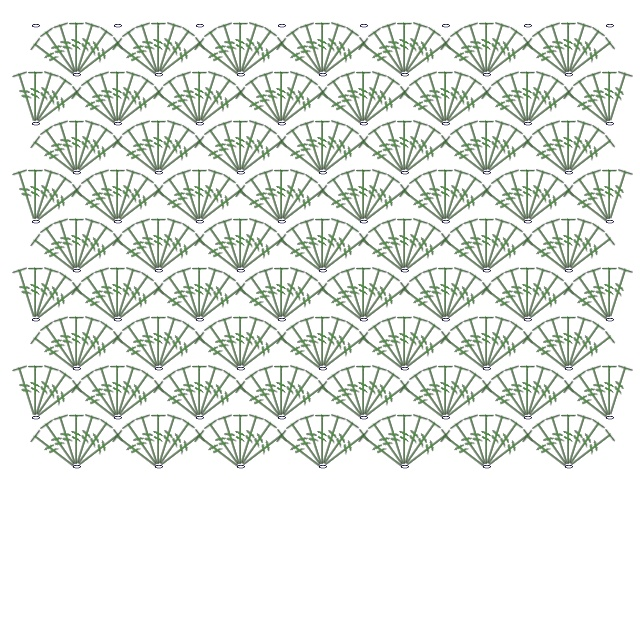chain: (31, 22, 41, 30), (113, 22, 123, 30), (195, 22, 205, 30), (277, 22, 287, 30), (359, 22, 369, 30), (441, 22, 451, 30), (523, 22, 533, 30), (605, 22, 615, 30), (31, 120, 41, 128), (113, 120, 123, 128), (195, 120, 205, 128), (277, 120, 287, 128), (359, 120, 369, 128), (441, 120, 451, 128), (523, 120, 533, 128), (605, 120, 615, 128), (31, 218, 41, 226), (113, 218, 123, 226), (195, 218, 205, 226), (277, 218, 287, 226), (359, 218, 369, 226), (441, 218, 451, 226), (523, 218, 533, 226), (605, 218, 615, 226), (31, 316, 41, 324), (113, 316, 123, 324), (195, 316, 205, 324), (277, 316, 287, 324), (359, 316, 369, 324), (441, 316, 451, 324), (523, 316, 533, 324), (605, 316, 615, 324), (31, 414, 41, 422), (113, 414, 123, 422), (195, 414, 205, 422), (277, 414, 287, 422), (359, 414, 369, 422), (441, 414, 451, 422), (523, 414, 533, 422), (605, 414, 615, 422), (72, 72, 82, 78), (154, 72, 164, 78), (236, 72, 246, 78), (318, 72, 328, 78), (400, 72, 410, 78), (482, 72, 492, 78), (564, 72, 574, 78), (72, 170, 82, 176), (154, 170, 164, 176), (236, 170, 246, 176), (318, 170, 328, 176), (400, 170, 410, 176), (482, 170, 492, 176), (564, 170, 574, 176), (72, 268, 82, 274), (154, 268, 164, 274), (236, 268, 246, 274), (318, 268, 328, 274), (400, 268, 410, 274), (482, 268, 492, 274), (564, 268, 574, 274), (72, 366, 82, 372), (154, 366, 164, 372), (236, 366, 246, 372), (318, 366, 328, 372), (400, 366, 410, 372), (482, 366, 492, 372), (564, 366, 574, 372), (72, 464, 82, 470), (154, 464, 164, 470), (236, 464, 246, 470), (318, 464, 328, 470), (400, 464, 410, 470), (482, 464, 492, 470), (564, 464, 574, 470)
fan: (28, 34, 83, 83), (71, 34, 126, 83), (110, 34, 165, 83), (153, 34, 208, 83), (192, 34, 247, 83), (235, 34, 290, 83), (274, 34, 329, 83), (317, 34, 372, 83), (356, 34, 411, 83), (399, 34, 454, 83), (438, 34, 493, 83), (481, 34, 536, 83), (520, 34, 575, 83), (563, 34, 618, 83), (30, 83, 85, 132), (69, 83, 124, 132), (112, 83, 167, 132), (151, 83, 206, 132), (194, 83, 249, 132), (233, 83, 288, 132), (276, 83, 331, 132), (315, 83, 370, 132), (358, 83, 413, 132), (397, 83, 452, 132), (440, 83, 495, 132), (479, 83, 534, 132), (522, 83, 577, 132), (561, 83, 616, 132), (28, 132, 83, 181), (71, 132, 126, 181), (110, 132, 165, 181), (153, 132, 208, 181), (192, 132, 247, 181), (235, 132, 290, 181), (274, 132, 329, 181), (317, 132, 372, 181), (356, 132, 411, 181), (399, 132, 454, 181), (438, 132, 493, 181), (481, 132, 536, 181), (520, 132, 575, 181), (563, 132, 618, 181), (30, 181, 85, 230), (69, 181, 124, 230), (112, 181, 167, 230), (151, 181, 206, 230), (194, 181, 249, 230), (233, 181, 288, 230), (276, 181, 331, 230), (315, 181, 370, 230), (358, 181, 413, 230), (397, 181, 452, 230), (440, 181, 495, 230), (479, 181, 534, 230), (522, 181, 577, 230), (561, 181, 616, 230), (28, 230, 83, 279), (71, 230, 126, 279), (110, 230, 165, 279), (153, 230, 208, 279), (192, 230, 247, 279), (235, 230, 290, 279), (274, 230, 329, 279), (317, 230, 372, 279), (356, 230, 411, 279), (399, 230, 454, 279), (438, 230, 493, 279), (481, 230, 536, 279), (520, 230, 575, 279), (563, 230, 618, 279), (30, 279, 85, 328), (69, 279, 124, 328), (112, 279, 167, 328), (151, 279, 206, 328), (194, 279, 249, 328), (233, 279, 288, 328), (276, 279, 331, 328), (315, 279, 370, 328), (358, 279, 413, 328), (397, 279, 452, 328), (440, 279, 495, 328), (479, 279, 534, 328), (522, 279, 577, 328), (561, 279, 616, 328), (28, 328, 83, 377), (71, 328, 126, 377), (110, 328, 165, 377), (153, 328, 208, 377), (192, 328, 247, 377), (235, 328, 290, 377), (274, 328, 329, 377), (317, 328, 372, 377), (356, 328, 411, 377), (399, 328, 454, 377), (438, 328, 493, 377), (481, 328, 536, 377), (520, 328, 575, 377), (563, 328, 618, 377), (30, 377, 85, 426), (69, 377, 124, 426), (112, 377, 167, 426), (151, 377, 206, 426), (194, 377, 249, 426), (233, 377, 288, 426), (276, 377, 331, 426), (315, 377, 370, 426), (358, 377, 413, 426), (397, 377, 452, 426), (440, 377, 495, 426), (479, 377, 534, 426), (522, 377, 577, 426), (561, 377, 616, 426), (28, 426, 83, 475), (71, 426, 126, 475), (110, 426, 165, 475), (153, 426, 208, 475), (192, 426, 247, 475), (235, 426, 290, 475), (274, 426, 329, 475), (317, 426, 372, 475), (356, 426, 411, 475), (399, 426, 454, 475), (438, 426, 493, 475), (481, 426, 536, 475), (520, 426, 575, 475), (563, 426, 618, 475), (38, 24, 85, 80), (69, 24, 116, 80), (120, 24, 167, 80), (151, 24, 198, 80), (202, 24, 249, 80), (233, 24, 280, 80), (284, 24, 331, 80), (315, 24, 362, 80), (366, 24, 413, 80), (397, 24, 444, 80), (448, 24, 495, 80), (479, 24, 526, 80), (530, 24, 577, 80), (561, 24, 608, 80), (28, 73, 75, 129), (79, 73, 126, 129), (110, 73, 157, 129), (161, 73, 208, 129), (192, 73, 239, 129), (243, 73, 290, 129), (274, 73, 321, 129), (325, 73, 372, 129), (356, 73, 403, 129), (407, 73, 454, 129), (438, 73, 485, 129), (489, 73, 536, 129), (520, 73, 567, 129), (571, 73, 618, 129), (38, 122, 85, 178), (69, 122, 116, 178), (120, 122, 167, 178), (151, 122, 198, 178), (202, 122, 249, 178), (233, 122, 280, 178), (284, 122, 331, 178), (315, 122, 362, 178), (366, 122, 413, 178), (397, 122, 444, 178), (448, 122, 495, 178), (479, 122, 526, 178), (530, 122, 577, 178), (561, 122, 608, 178), (28, 171, 75, 227), (79, 171, 126, 227), (110, 171, 157, 227), (161, 171, 208, 227), (192, 171, 239, 227), (243, 171, 290, 227), (274, 171, 321, 227), (325, 171, 372, 227), (356, 171, 403, 227), (407, 171, 454, 227), (438, 171, 485, 227), (489, 171, 536, 227), (520, 171, 567, 227), (571, 171, 618, 227), (38, 220, 85, 276), (69, 220, 116, 276), (120, 220, 167, 276), (151, 220, 198, 276), (202, 220, 249, 276), (233, 220, 280, 276), (284, 220, 331, 276), (315, 220, 362, 276), (366, 220, 413, 276), (397, 220, 444, 276), (448, 220, 495, 276), (479, 220, 526, 276), (530, 220, 577, 276), (561, 220, 608, 276), (28, 269, 75, 325), (79, 269, 126, 325), (110, 269, 157, 325), (161, 269, 208, 325), (192, 269, 239, 325), (243, 269, 290, 325), (274, 269, 321, 325), (325, 269, 372, 325), (356, 269, 403, 325), (407, 269, 454, 325), (438, 269, 485, 325), (489, 269, 536, 325), (520, 269, 567, 325), (571, 269, 618, 325), (38, 318, 85, 374), (69, 318, 116, 374), (120, 318, 167, 374), (151, 318, 198, 374), (202, 318, 249, 374), (233, 318, 280, 374), (284, 318, 331, 374), (315, 318, 362, 374), (366, 318, 413, 374), (397, 318, 444, 374), (448, 318, 495, 374), (479, 318, 526, 374), (530, 318, 577, 374), (561, 318, 608, 374), (28, 367, 75, 423), (79, 367, 126, 423), (110, 367, 157, 423), (161, 367, 208, 423), (192, 367, 239, 423), (243, 367, 290, 423), (274, 367, 321, 423), (325, 367, 372, 423), (356, 367, 403, 423), (407, 367, 454, 423), (438, 367, 485, 423), (489, 367, 536, 423), (520, 367, 567, 423), (571, 367, 618, 423), (38, 416, 85, 472), (69, 416, 116, 472), (120, 416, 167, 472), (151, 416, 198, 472), (202, 416, 249, 472), (233, 416, 280, 472), (284, 416, 331, 472), (315, 416, 362, 472), (366, 416, 413, 472), (397, 416, 444, 472), (448, 416, 495, 472), (479, 416, 526, 472), (530, 416, 577, 472), (561, 416, 608, 472), (51, 20, 86, 78), (68, 20, 103, 78), (133, 20, 168, 78), (150, 20, 185, 78), (215, 20, 250, 78), (232, 20, 267, 78), (297, 20, 332, 78), (314, 20, 349, 78), (379, 20, 414, 78), (396, 20, 431, 78), (461, 20, 496, 78), (478, 20, 513, 78), (543, 20, 578, 78), (560, 20, 595, 78), (10, 69, 45, 127), (27, 69, 62, 127), (92, 69, 127, 127), (109, 69, 144, 127), (174, 69, 209, 127), (191, 69, 226, 127), (256, 69, 291, 127), (273, 69, 308, 127), (338, 69, 373, 127), (355, 69, 390, 127), (420, 69, 455, 127), (437, 69, 472, 127), (502, 69, 537, 127), (519, 69, 554, 127), (584, 69, 619, 127), (601, 69, 636, 127), (51, 118, 86, 176), (68, 118, 103, 176), (133, 118, 168, 176), (150, 118, 185, 176), (215, 118, 250, 176), (232, 118, 267, 176), (297, 118, 332, 176), (314, 118, 349, 176), (379, 118, 414, 176), (396, 118, 431, 176), (461, 118, 496, 176), (478, 118, 513, 176), (543, 118, 578, 176), (560, 118, 595, 176), (10, 167, 45, 225), (27, 167, 62, 225), (92, 167, 127, 225), (109, 167, 144, 225), (174, 167, 209, 225), (191, 167, 226, 225), (256, 167, 291, 225), (273, 167, 308, 225), (338, 167, 373, 225), (355, 167, 390, 225), (420, 167, 455, 225), (437, 167, 472, 225), (502, 167, 537, 225), (519, 167, 554, 225), (584, 167, 619, 225), (601, 167, 636, 225), (51, 216, 86, 274), (68, 216, 103, 274), (133, 216, 168, 274), (150, 216, 185, 274), (215, 216, 250, 274), (232, 216, 267, 274), (297, 216, 332, 274), (314, 216, 349, 274), (379, 216, 414, 274), (396, 216, 431, 274), (461, 216, 496, 274), (478, 216, 513, 274), (543, 216, 578, 274), (560, 216, 595, 274), (10, 265, 45, 323), (27, 265, 62, 323), (92, 265, 127, 323), (109, 265, 144, 323), (174, 265, 209, 323), (191, 265, 226, 323), (256, 265, 291, 323), (273, 265, 308, 323), (338, 265, 373, 323), (355, 265, 390, 323), (420, 265, 455, 323), (437, 265, 472, 323), (502, 265, 537, 323), (519, 265, 554, 323), (584, 265, 619, 323), (601, 265, 636, 323), (51, 314, 86, 372), (68, 314, 103, 372), (133, 314, 168, 372), (150, 314, 185, 372), (215, 314, 250, 372), (232, 314, 267, 372), (297, 314, 332, 372), (314, 314, 349, 372), (379, 314, 414, 372), (396, 314, 431, 372), (461, 314, 496, 372), (478, 314, 513, 372), (543, 314, 578, 372), (560, 314, 595, 372), (10, 363, 45, 421), (27, 363, 62, 421), (92, 363, 127, 421), (109, 363, 144, 421), (174, 363, 209, 421), (191, 363, 226, 421), (256, 363, 291, 421), (273, 363, 308, 421), (338, 363, 373, 421), (355, 363, 390, 421), (420, 363, 455, 421), (437, 363, 472, 421), (502, 363, 537, 421), (519, 363, 554, 421), (584, 363, 619, 421), (601, 363, 636, 421), (51, 412, 86, 470), (68, 412, 103, 470), (133, 412, 168, 470), (150, 412, 185, 470), (215, 412, 250, 470), (232, 412, 267, 470), (297, 412, 332, 470), (314, 412, 349, 470), (379, 412, 414, 470), (396, 412, 431, 470), (461, 412, 496, 470), (478, 412, 513, 470), (543, 412, 578, 470), (560, 412, 595, 470), (26, 69, 46, 124), (108, 69, 128, 124), (190, 69, 210, 124), (272, 69, 292, 124), (354, 69, 374, 124), (436, 69, 456, 124), (518, 69, 538, 124), (600, 69, 620, 124), (26, 167, 46, 222), (108, 167, 128, 222), (190, 167, 210, 222), (272, 167, 292, 222), (354, 167, 374, 222), (436, 167, 456, 222), (518, 167, 538, 222), (600, 167, 620, 222), (26, 265, 46, 320), (108, 265, 128, 320), (190, 265, 210, 320), (272, 265, 292, 320), (354, 265, 374, 320), (436, 265, 456, 320), (518, 265, 538, 320), (600, 265, 620, 320), (26, 363, 46, 418), (108, 363, 128, 418), (190, 363, 210, 418), (272, 363, 292, 418), (354, 363, 374, 418), (436, 363, 456, 418), (518, 363, 538, 418), (600, 363, 620, 418), (68, 20, 86, 75), (150, 20, 168, 75), (232, 20, 250, 75), (314, 20, 332, 75), (396, 20, 414, 75), (478, 20, 496, 75), (560, 20, 578, 75), (68, 118, 86, 173), (150, 118, 168, 173), (232, 118, 250, 173), (314, 118, 332, 173), (396, 118, 414, 173), (478, 118, 496, 173), (560, 118, 578, 173), (68, 216, 86, 271), (150, 216, 168, 271), (232, 216, 250, 271), (314, 216, 332, 271), (396, 216, 414, 271), (478, 216, 496, 271), (560, 216, 578, 271), (68, 314, 86, 369), (150, 314, 168, 369), (232, 314, 250, 369), (314, 314, 332, 369), (396, 314, 414, 369), (478, 314, 496, 369), (560, 314, 578, 369), (68, 412, 86, 467), (150, 412, 168, 467), (232, 412, 250, 467), (314, 412, 332, 467), (396, 412, 414, 467), (478, 412, 496, 467), (560, 412, 578, 467)
